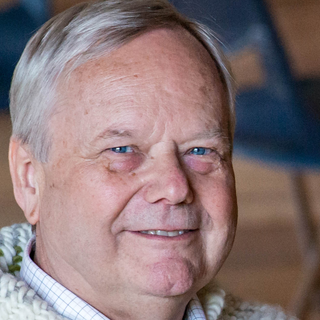eye: (93, 138, 146, 165), (178, 142, 225, 166)
